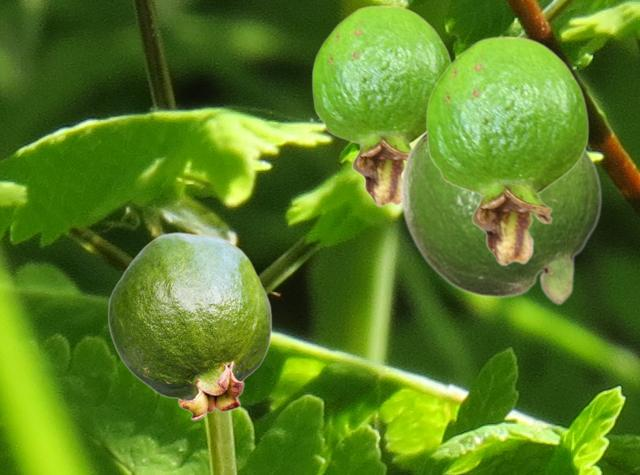guava: (425, 35, 588, 265), (399, 131, 601, 305), (107, 232, 271, 420), (311, 4, 451, 206)
